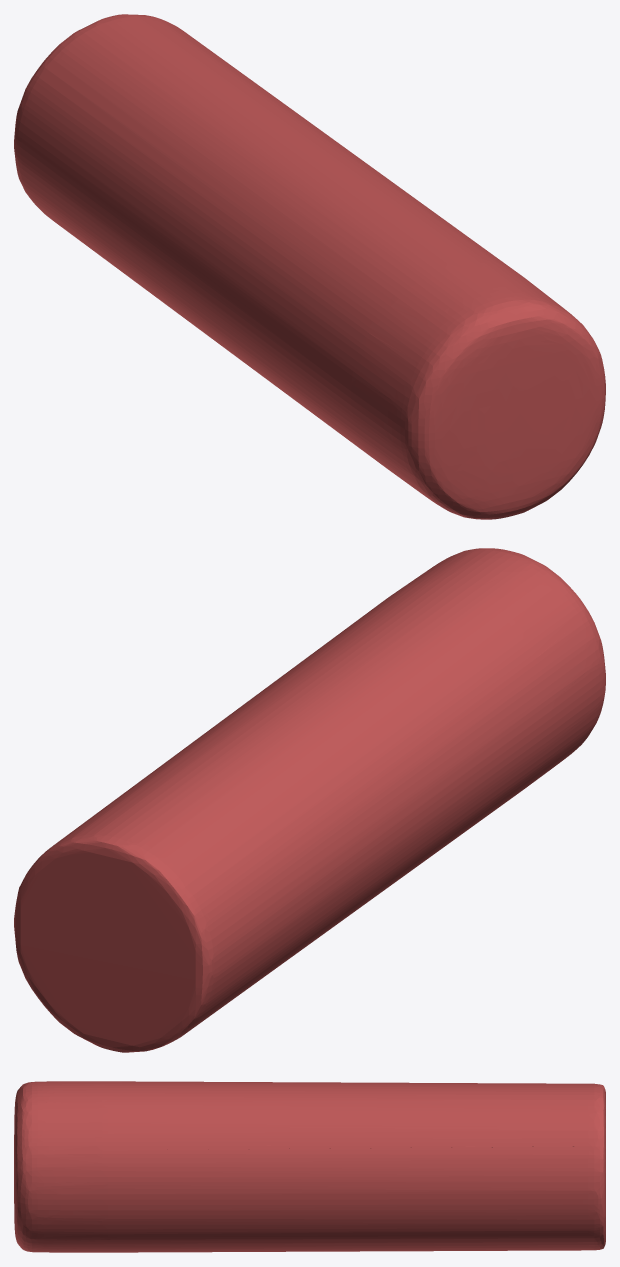
Rendered from hulls.glb.
3 views of the same model, one above another, from view 1: azimuth 30°, elevation 25°; view 2: azimuth 150°, elevation 25°; view 3: azimuth 270°, elevation 25° (orthographic). The views are drawn at different scales.
Size of the model in its own units: 0.0673 by 0.0686 by 0.2367.
